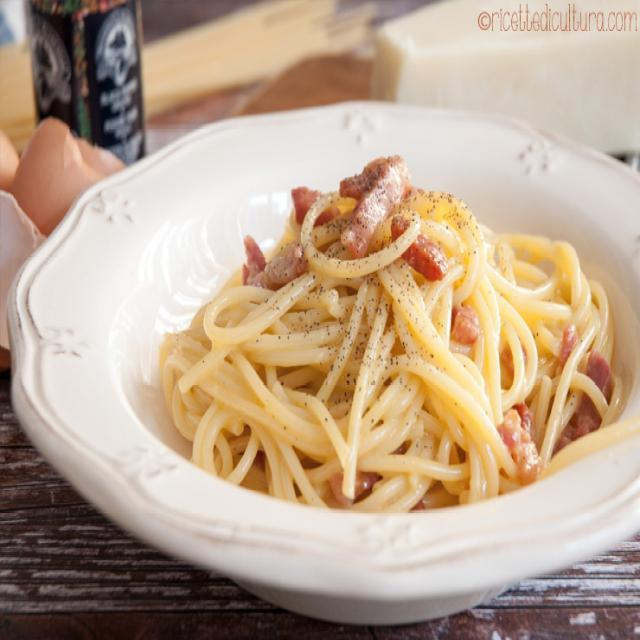Pasta with carbonara sauce: (132, 88, 640, 554)
